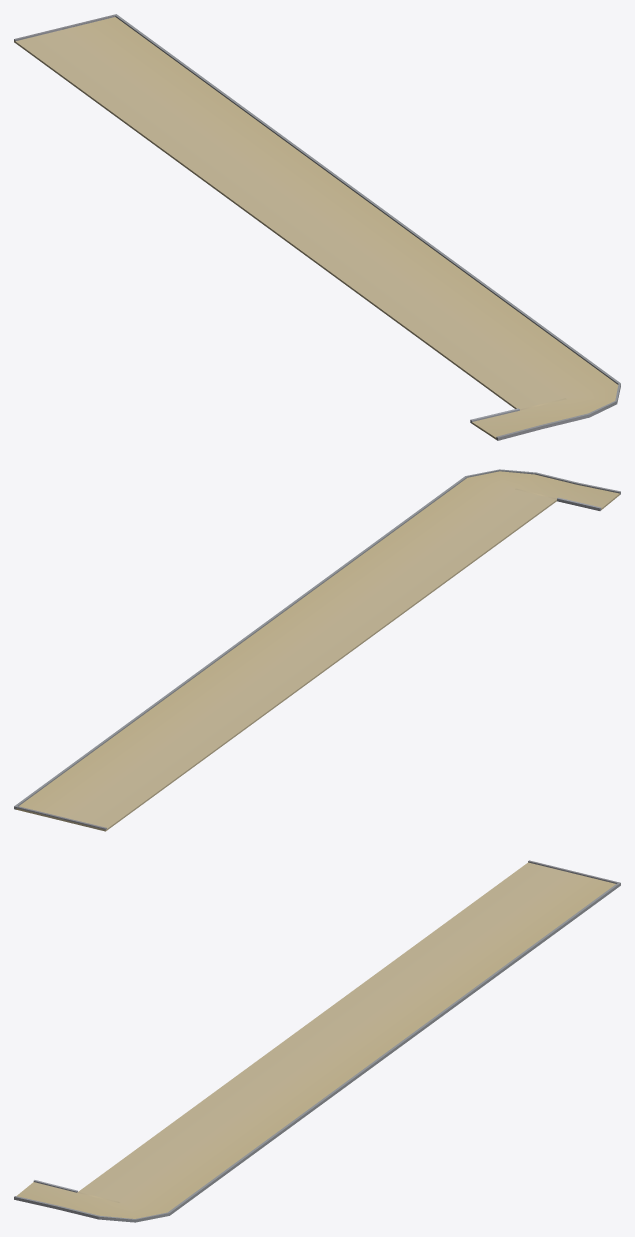
The model's file is sidewalk_25.fbx.
The picture shows the model from 3 angles, top to bottom: view 1: azimuth 30°, elevation 25°; view 2: azimuth 150°, elevation 25°; view 3: azimuth 330°, elevation 25°; orthographic projection. The views are drawn at different scales.
Parts seen in each view (by area): view 1: sidewalk_24; view 2: sidewalk_24; view 3: sidewalk_24.
Part boxes in pixels (box(x1,y1,x2,y2)): sidewalk_24: box(14, 14, 620, 440); sidewalk_24: box(14, 469, 620, 831); sidewalk_24: box(14, 860, 620, 1222).
Bounding box in the file's own units: 1.18 × 0.0274 × 7.21.
1 material, 1 textured.
